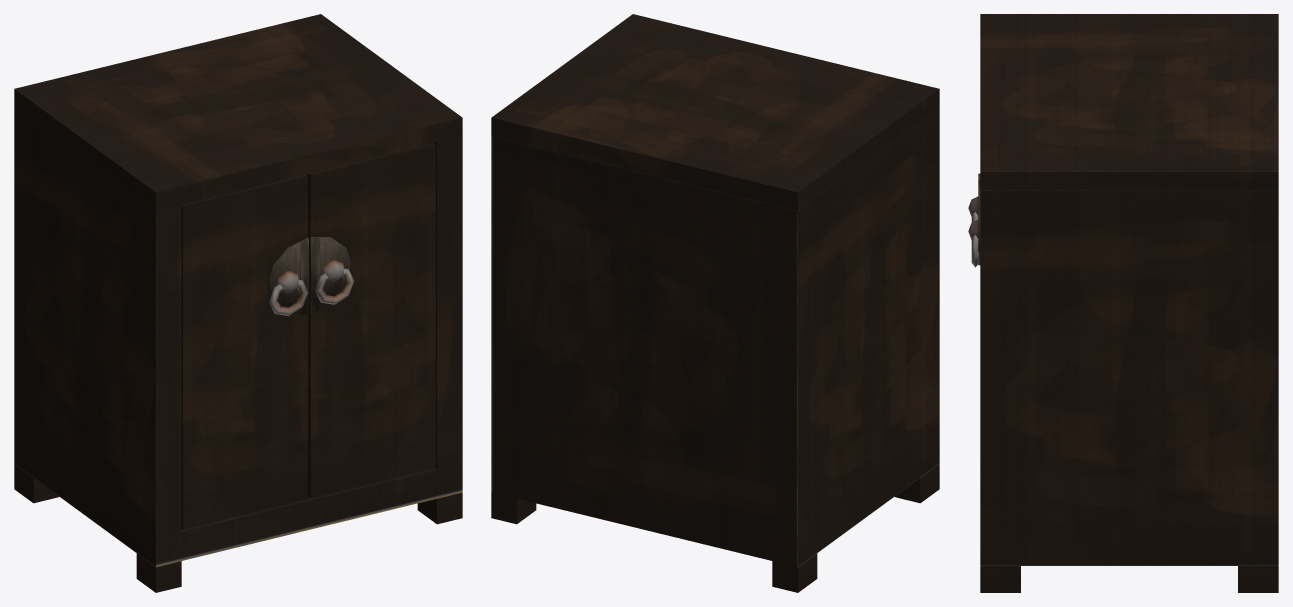
Rendered from Barcloset.fbx.
3 views of the same model, side by side, from view 1: azimuth 30°, elevation 25°; view 2: azimuth 150°, elevation 25°; view 3: azimuth 270°, elevation 25° (orthographic). The views are drawn at different scales.
Visible parts, largest first — view 1: Barcloset; view 2: Barcloset; view 3: Barcloset.
Boxes of the visible parts, bbox=[...] form: Barcloset: bbox=[14, 14, 462, 592]; Barcloset: bbox=[491, 14, 939, 592]; Barcloset: bbox=[968, 14, 1278, 592].
Bounding box in the file's own units: 1.33 × 1.66 × 1.11.
